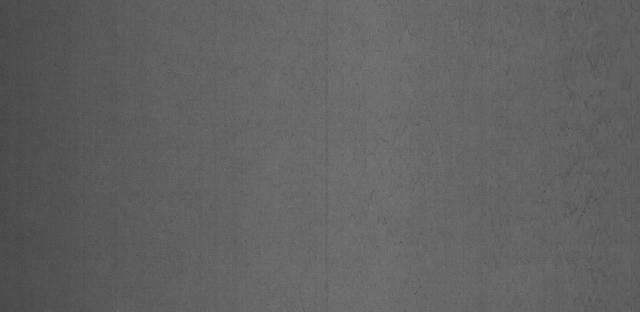silk_spot: (354, 11, 619, 296)
